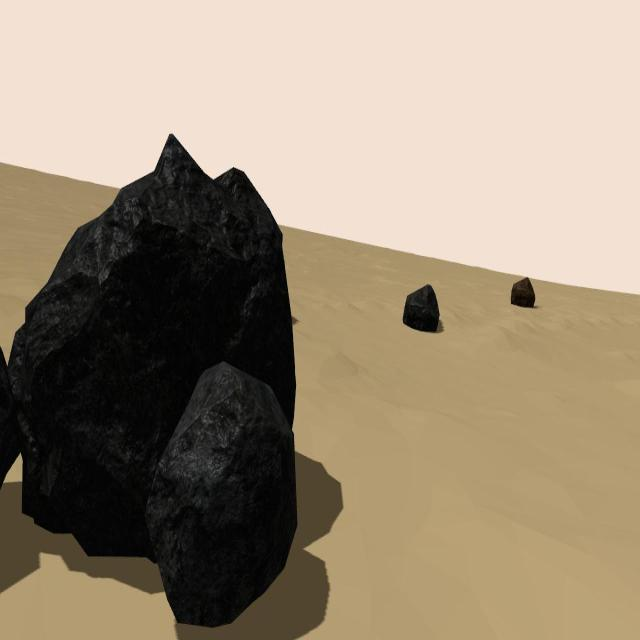rock: (5, 134, 296, 564), (148, 363, 298, 626), (0, 345, 21, 491), (402, 283, 440, 333), (510, 276, 535, 308)
